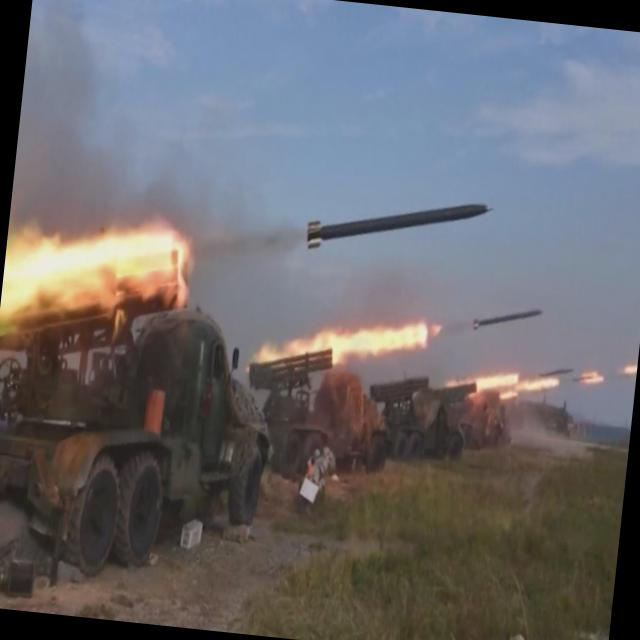rocket: (125, 155, 557, 370)
